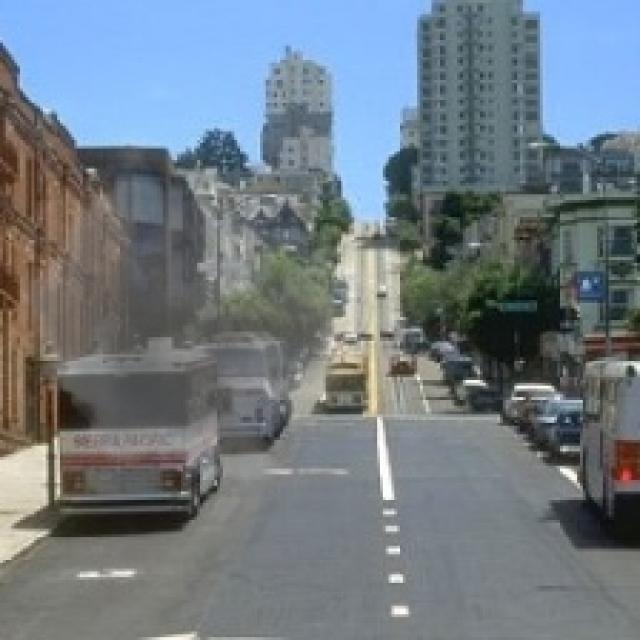Smoke: (3, 134, 366, 500)
